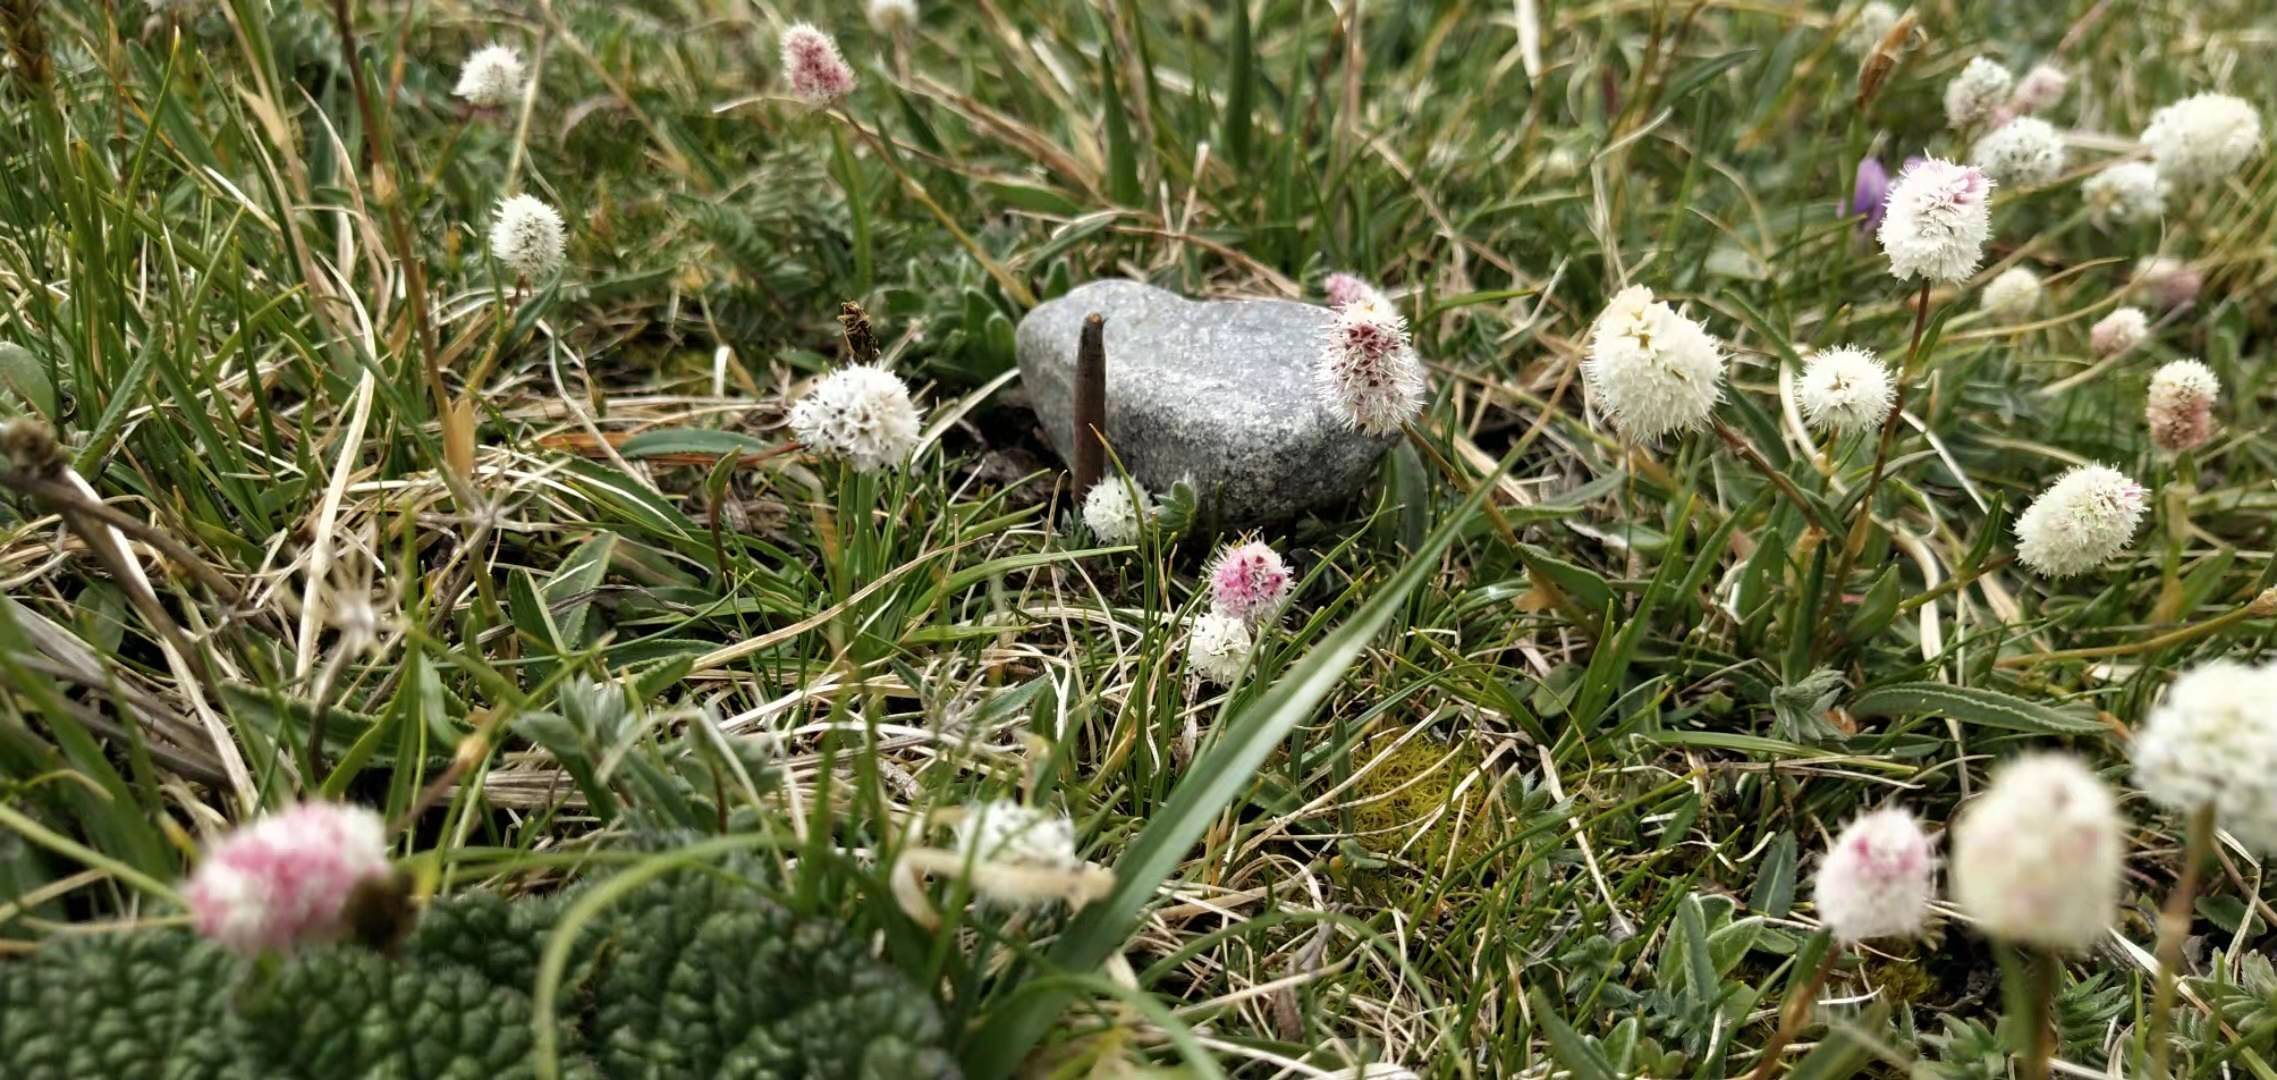Chongcao: (1073, 311, 1108, 502)
